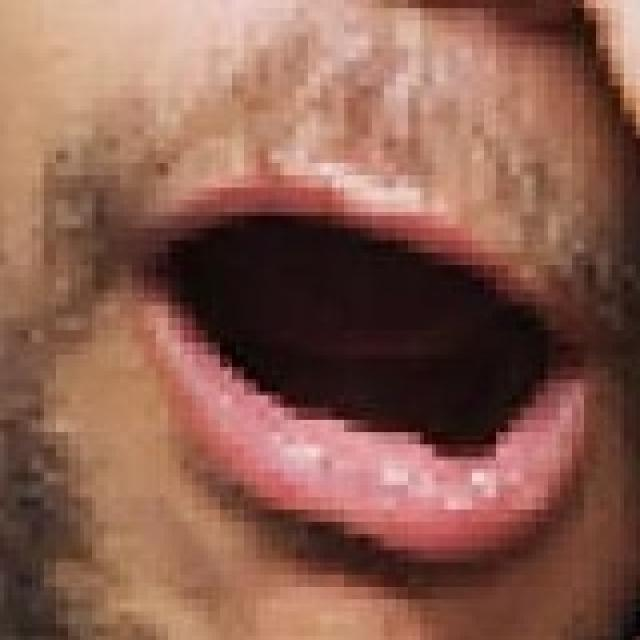open-mouth: (124, 171, 600, 567)
